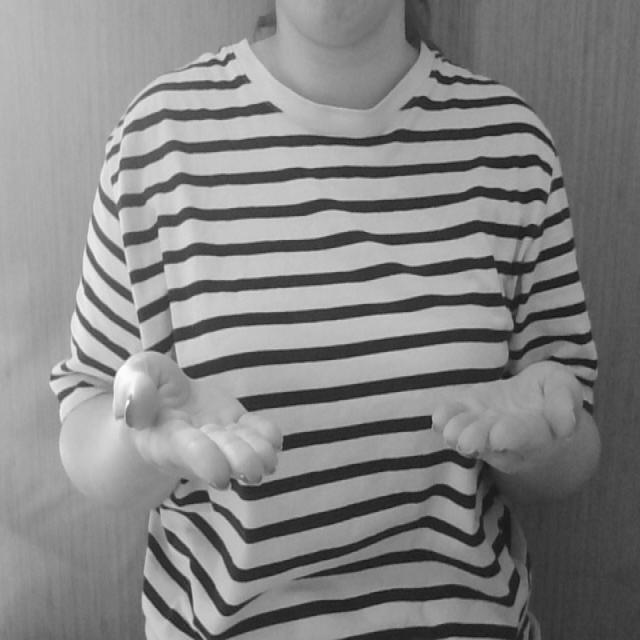Evet: (106, 348, 589, 494)
